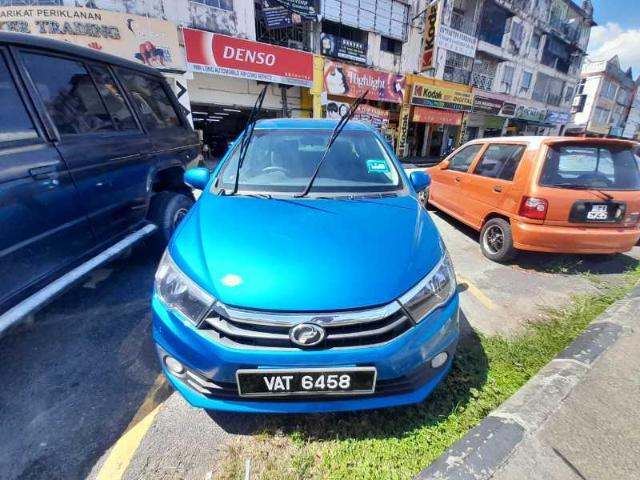License_Plate: (236, 366, 378, 398), (585, 203, 614, 223)
car: (151, 115, 463, 415), (422, 135, 640, 264)
